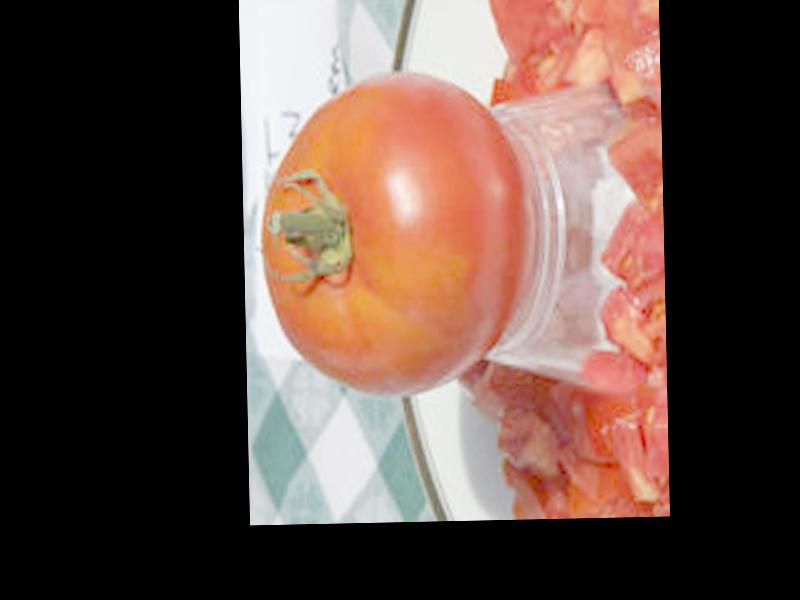Tomato: (255, 67, 530, 400)
